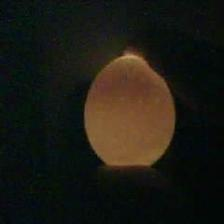infertile: (80, 52, 178, 170)
